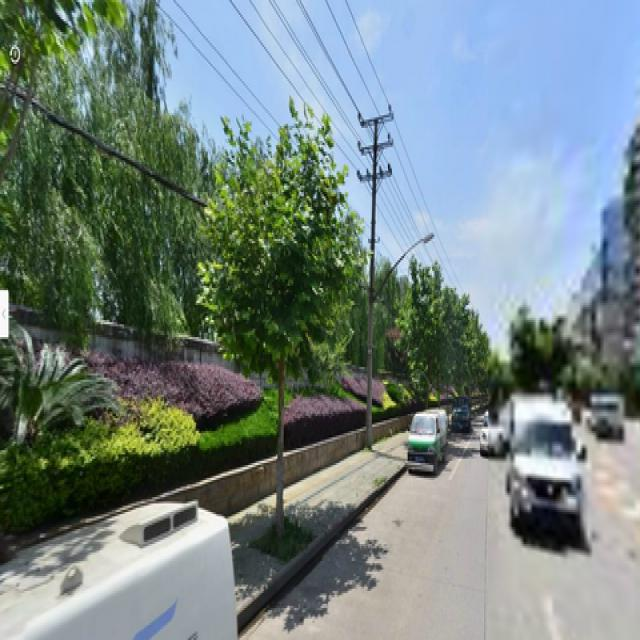meta: (211, 98, 357, 529)
